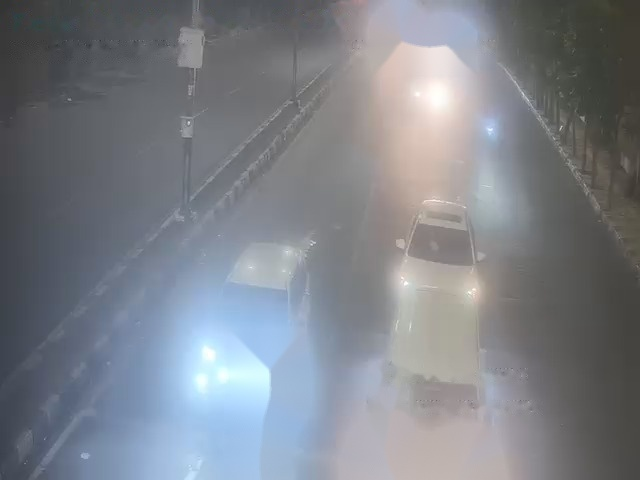Mobil: (381, 285, 490, 457), (203, 236, 305, 408), (392, 190, 480, 303)
